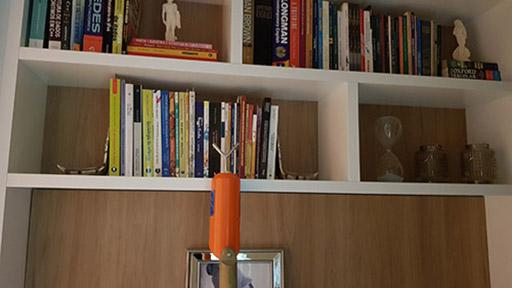Detector_Tensao_Contato: (207, 141, 242, 267)
